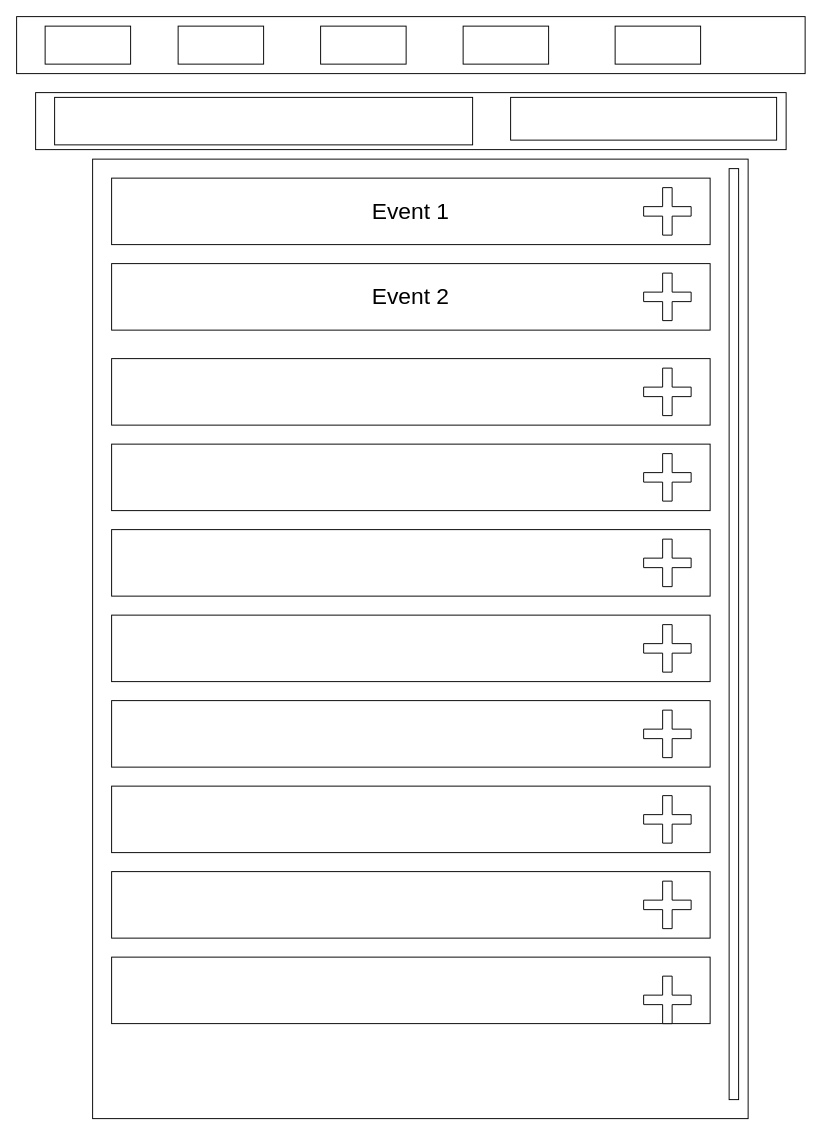
Some shapes in this 822 by 1135 pixel diagram are drawn without their labels. Here are the shapes that lost their labels. From the top down, the centre of each, then its label:
(x=263, y=120): SearchBar
(x=643, y=118): Drop Down Sort
